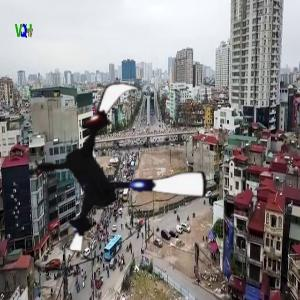drone: (25, 79, 214, 268)
